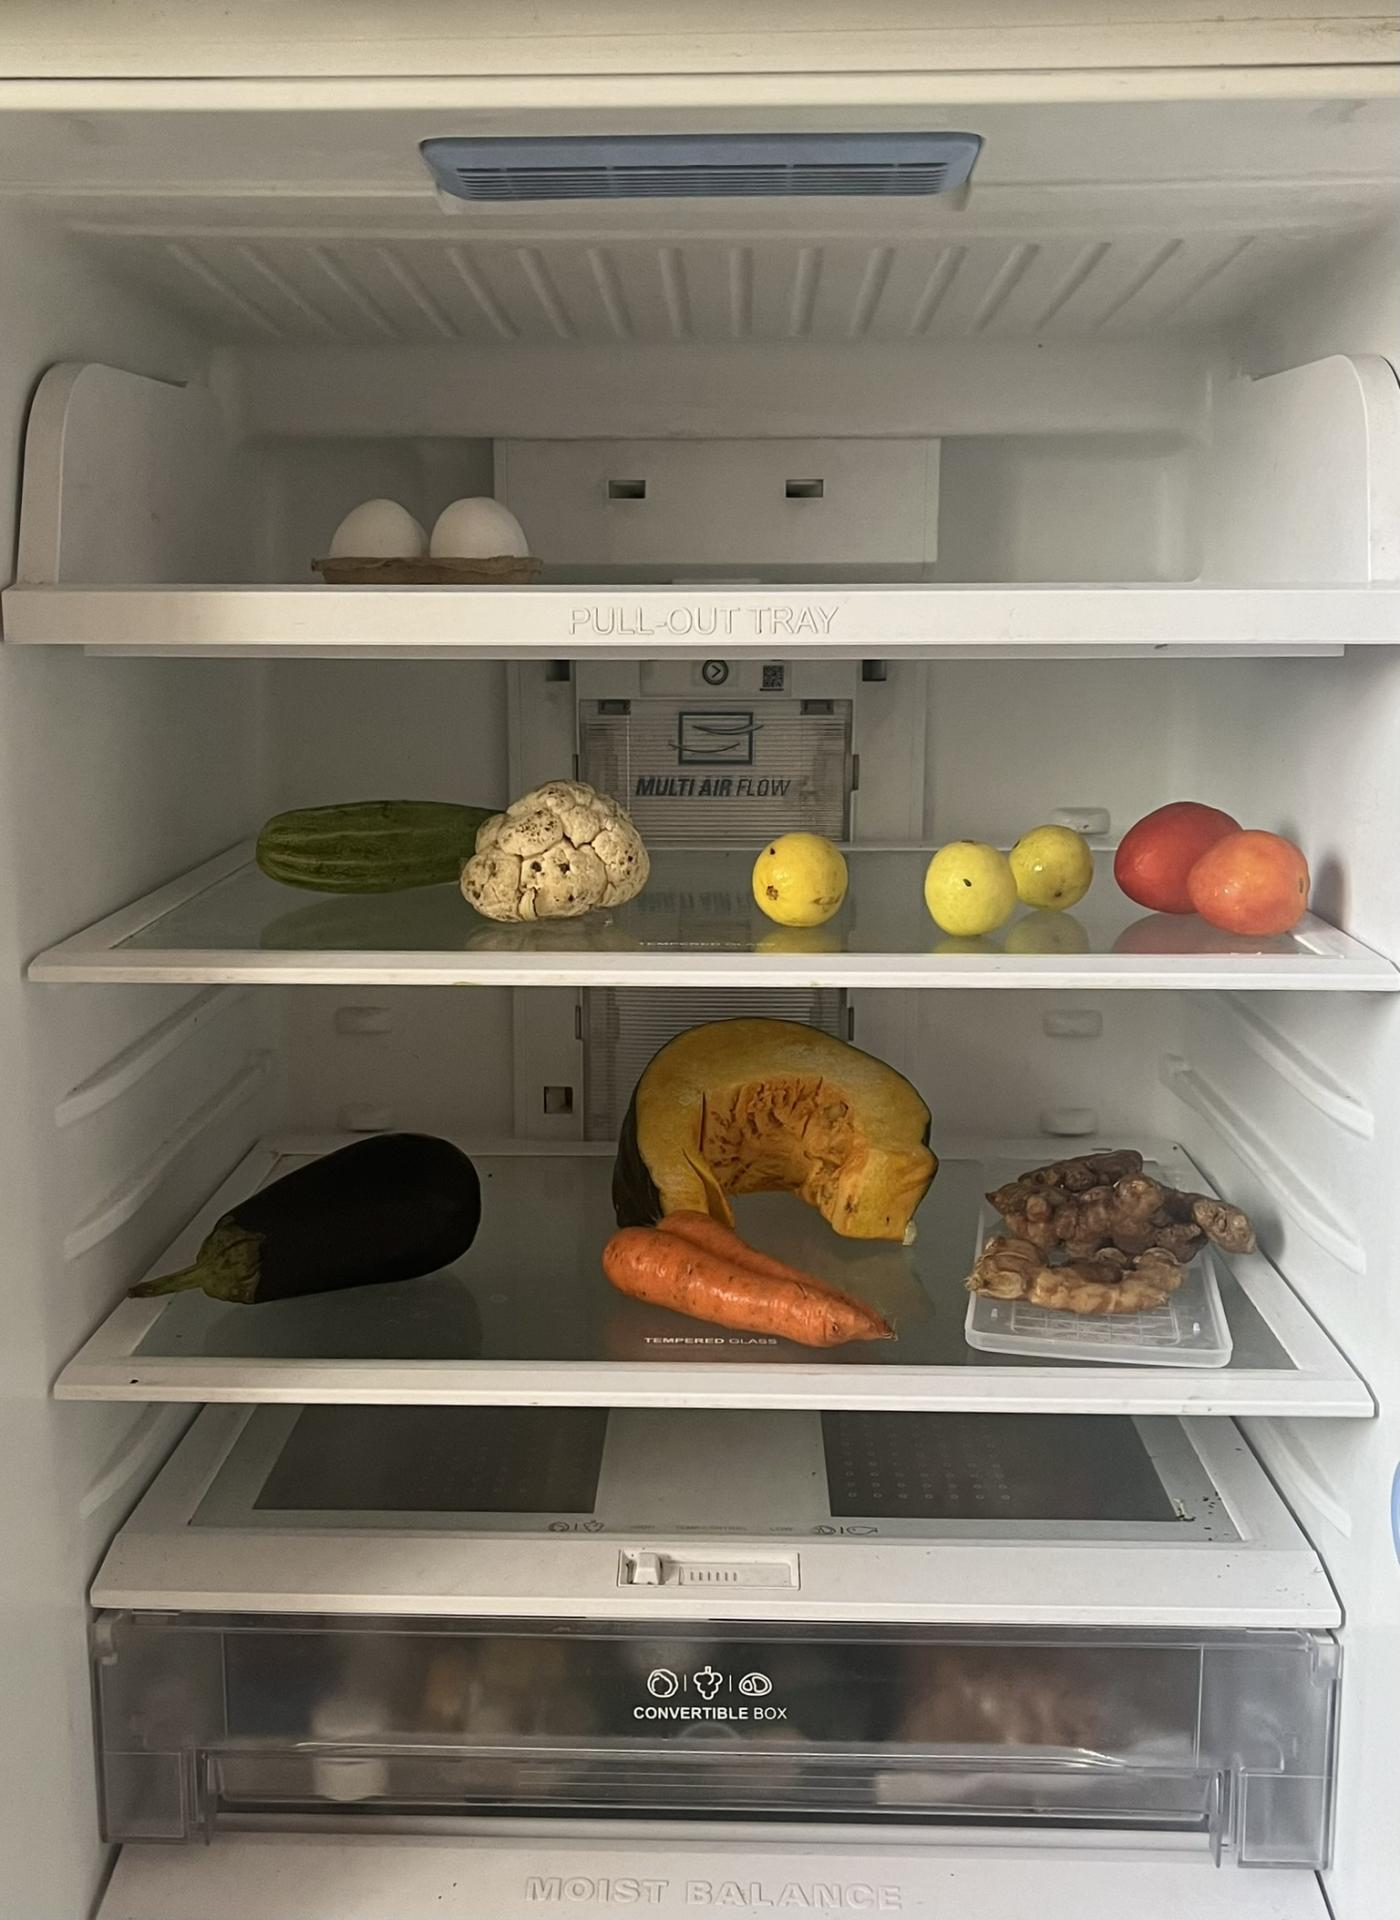carrots: (598, 1201, 887, 1337)
cauliflower: (476, 780, 650, 911)
cucumber: (247, 793, 517, 881)
egg: (334, 493, 538, 583)
ginger: (977, 1140, 1258, 1306)
lemon: (926, 827, 1097, 921), (748, 827, 845, 924)
pumpkin: (608, 1014, 941, 1237)
tomato: (1109, 789, 1314, 944)
